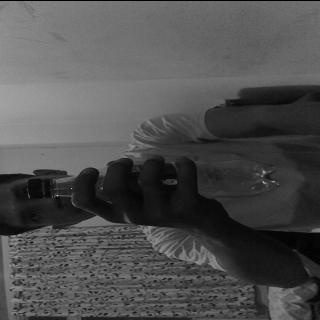plastic_bottles: (21, 158, 280, 201)
